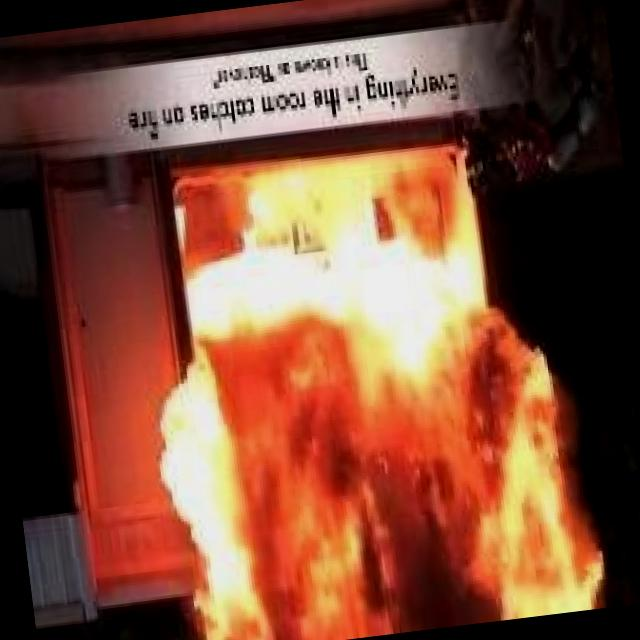fire: (81, 108, 630, 640)
